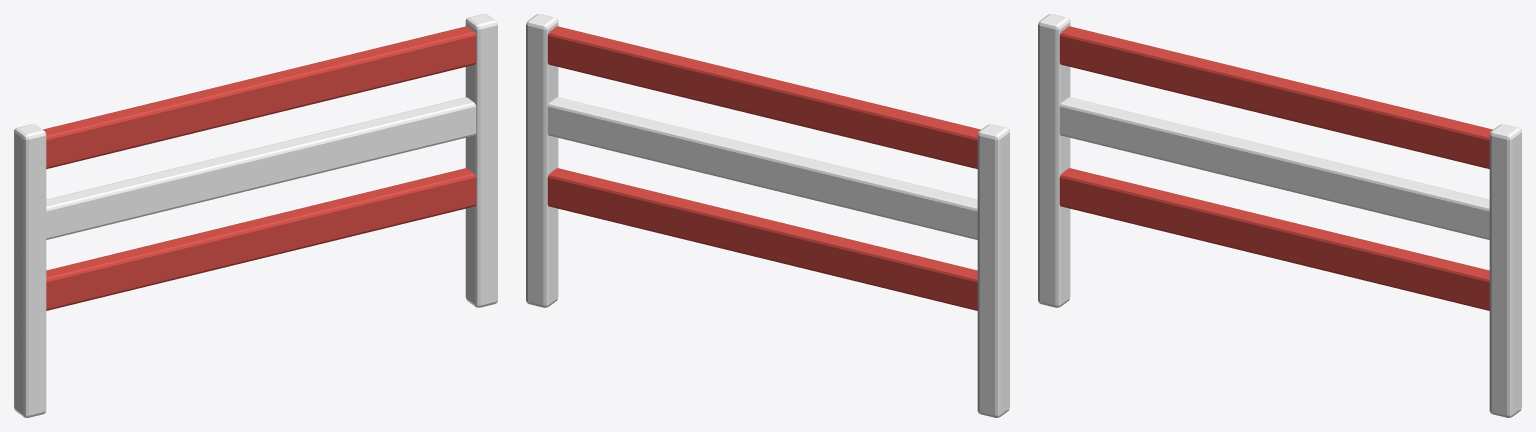
File: Horse_Jump.fbx
The picture shows the model from 3 angles, left to right: view 1: azimuth 30°, elevation 25°; view 2: azimuth 150°, elevation 25°; view 3: azimuth 330°, elevation 25°; orthographic projection.
Parts seen in each view (by area): view 1: Jump; view 2: Jump; view 3: Jump.
Part boxes in pixels (bbox=[...]): Jump: bbox=[14, 14, 497, 417]; Jump: bbox=[526, 14, 1009, 417]; Jump: bbox=[1038, 14, 1521, 417].
Size of the model in its own units: 2.1 by 1.2 by 0.1.
